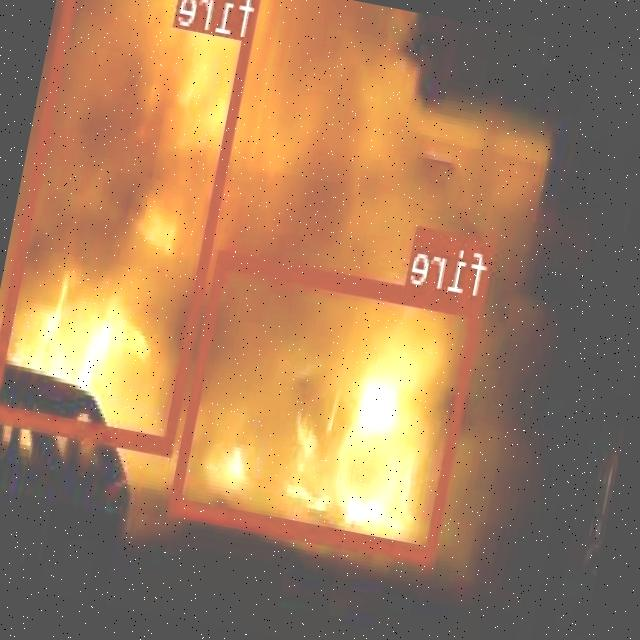fire: (0, 0, 264, 451), (172, 248, 486, 562)
